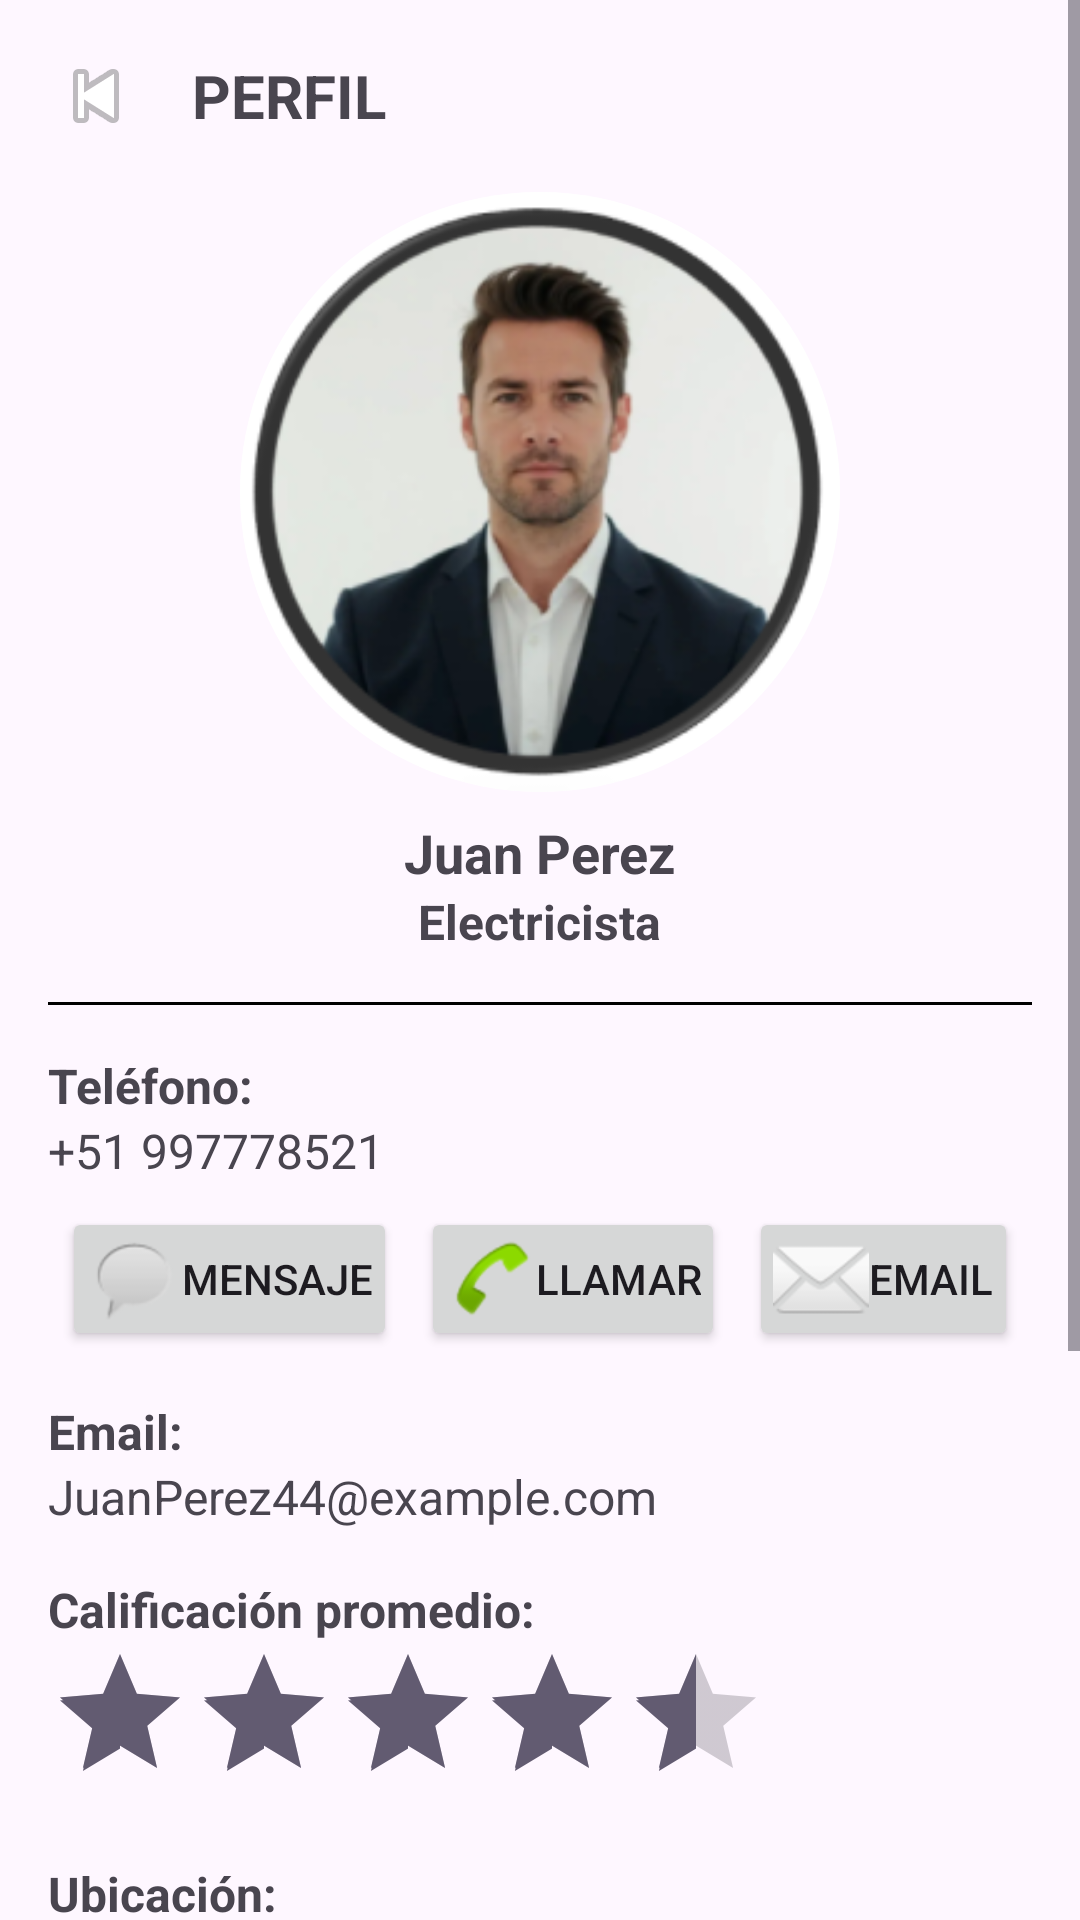

Locate icon controls on the screen. Image size 1080x1920, boxes as (x1, y1, x2, y2).
Volver: (73, 69, 119, 123)
